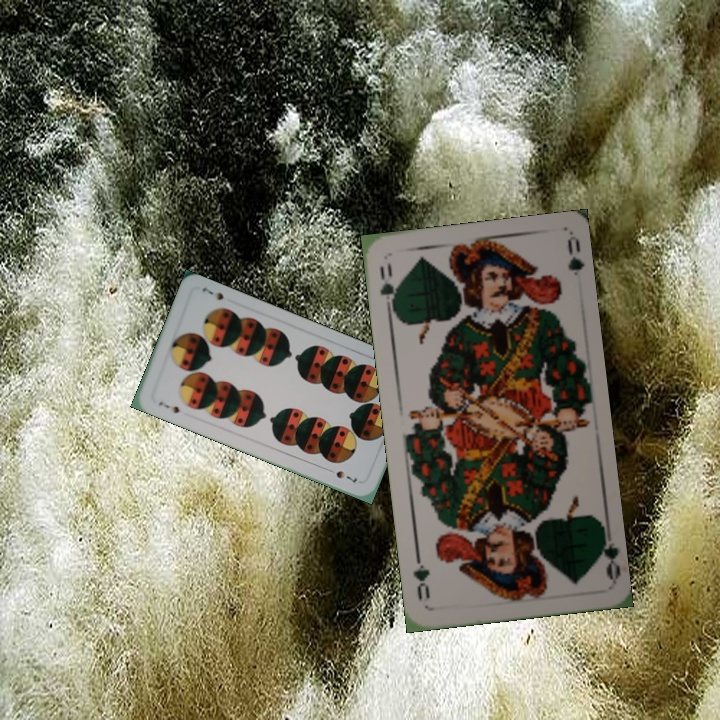GO: (592, 523, 622, 582), (376, 259, 401, 316)
S7: (154, 398, 182, 416)
